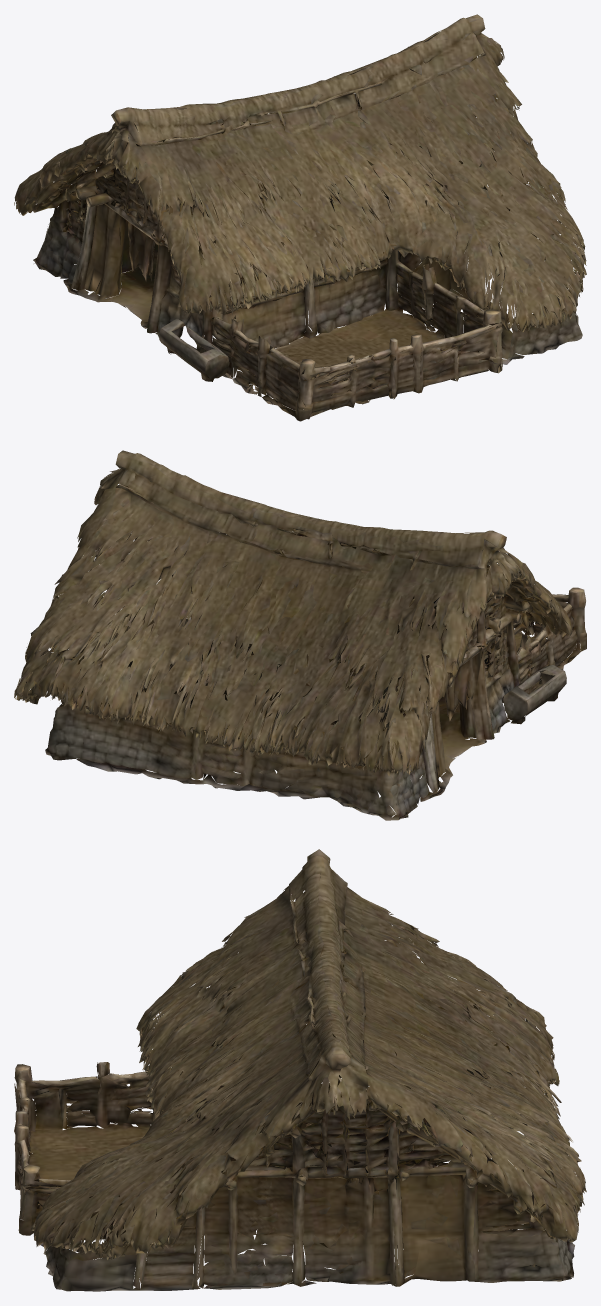
File: pasture_mid.glb
The picture shows the model from 3 angles, top to bottom: view 1: azimuth 30°, elevation 25°; view 2: azimuth 150°, elevation 25°; view 3: azimuth 270°, elevation 25°; orthographic projection. The views are drawn at different scales.
Visible parts, largest first — view 1: model; view 2: model; view 3: model.
Part boxes in pixels (x1,y1,x2,y2): model: [14, 14, 586, 421]; model: [14, 450, 586, 820]; model: [14, 849, 586, 1291].
Bounding box in the file's own units: 0.8991 × 0.4801 × 0.9868.
Materials: 1 (1 with a texture image).
